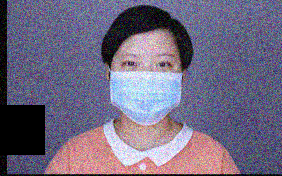with_mask: (106, 52, 184, 128)
